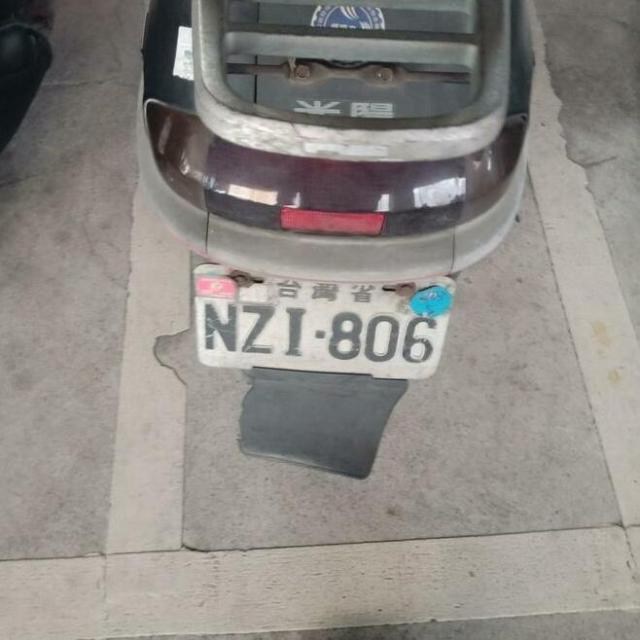W: (179, 248, 463, 386)
